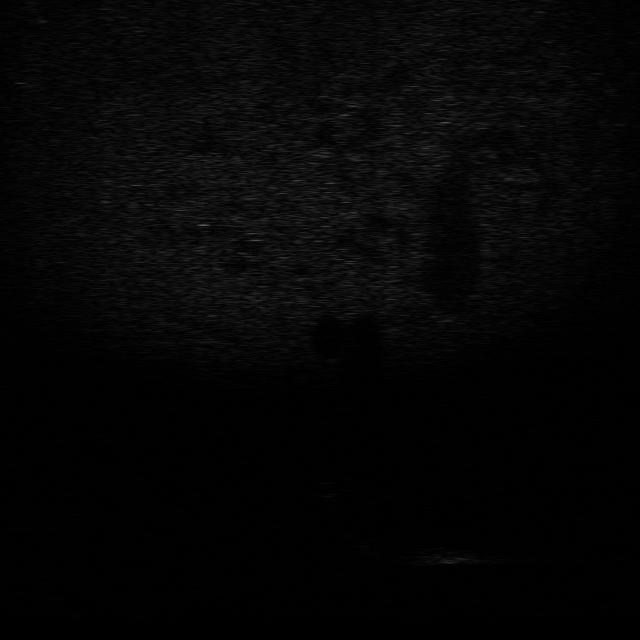ball: (309, 479, 346, 499)
metal bucket: (410, 542, 481, 568)
tyre: (355, 512, 406, 562)
